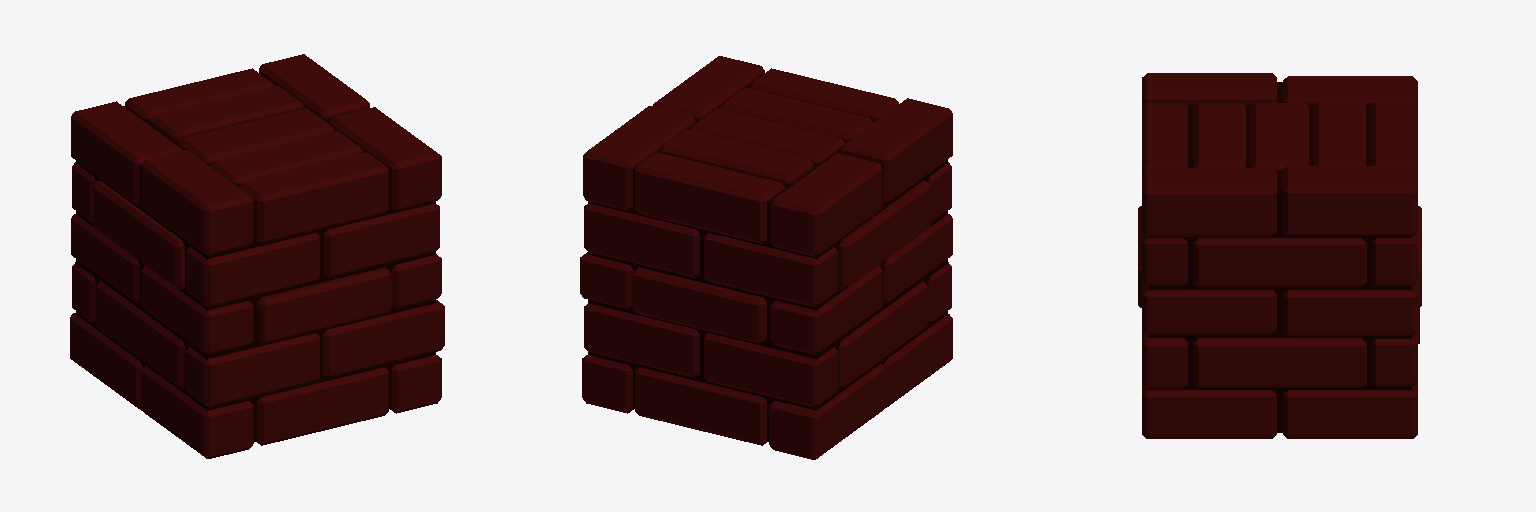
The model's file is Brick.obj.
3 views of the same model, side by side, from view 1: azimuth 30°, elevation 25°; view 2: azimuth 150°, elevation 25°; view 3: azimuth 270°, elevation 25° (orthographic).
Parts seen in each view (by area): view 1: Cube_Bricks_Cube.042; view 2: Cube_Bricks_Cube.042; view 3: Cube_Bricks_Cube.042.
Boxes of the visible parts, <box> form: Cube_Bricks_Cube.042: <box>70,54,444,458</box>; Cube_Bricks_Cube.042: <box>580,56,952,459</box>; Cube_Bricks_Cube.042: <box>1138,73,1421,438</box>.
Bounding box in the file's own units: 1.02 × 1.01 × 1.03.